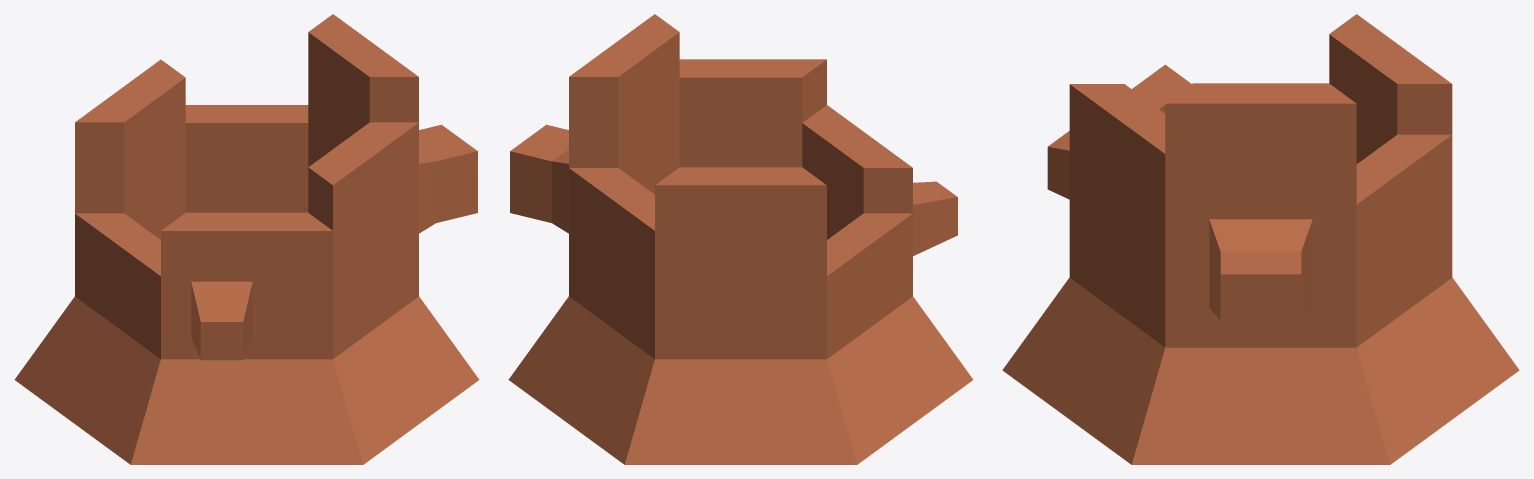
File: stump.glb
3 renders of one model, left to right at view 1: azimuth 30°, elevation 25°; view 2: azimuth 150°, elevation 25°; view 3: azimuth 270°, elevation 25°, orthographic. The views are drawn at different scales.
Visible parts, largest first — view 1: stump_old; view 2: stump_old; view 3: stump_old.
Boxes of the visible parts, x1,y1,x2,y2 form: stump_old: [14, 14, 479, 464]; stump_old: [508, 14, 973, 464]; stump_old: [1002, 14, 1519, 464].
Size of the model in its own units: 0.3565 by 0.2665 by 0.371.
